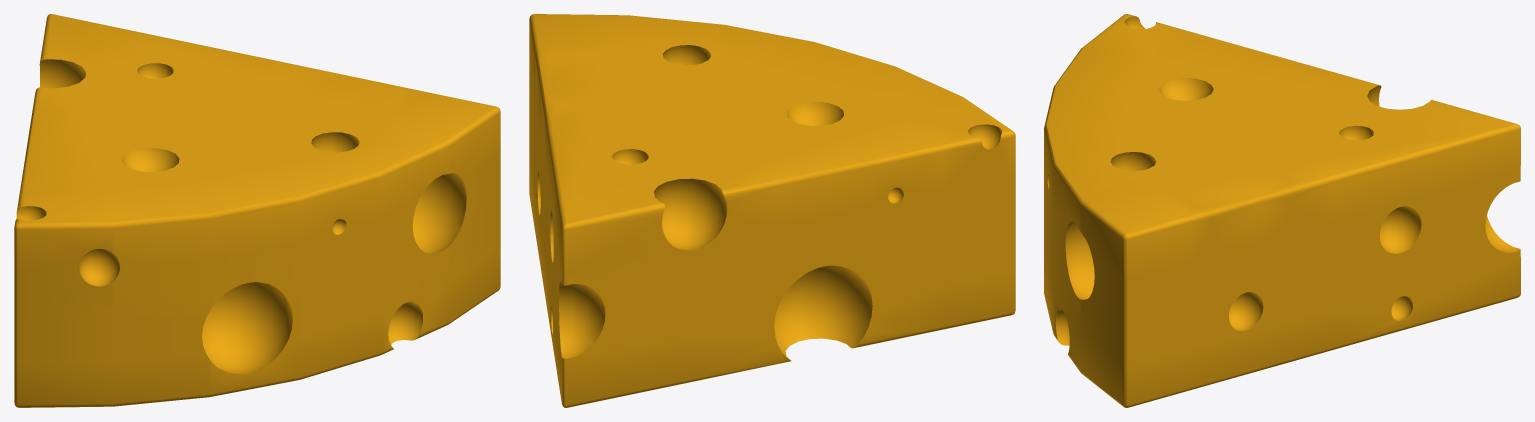
The model's file is cheese.fbx.
3 views of the same model, side by side, from view 1: azimuth 30°, elevation 25°; view 2: azimuth 150°, elevation 25°; view 3: azimuth 270°, elevation 25° (orthographic). The views are drawn at different scales.
Visible parts, largest first — view 1: Cheese; view 2: Cheese; view 3: Cheese.
Boxes of the visible parts, x1,y1,x2,y2 form: Cheese: (14,14,500,407); Cheese: (529,14,1015,407); Cheese: (1044,14,1520,407).
Size of the model in its own units: 110 by 40.09 by 99.5.
